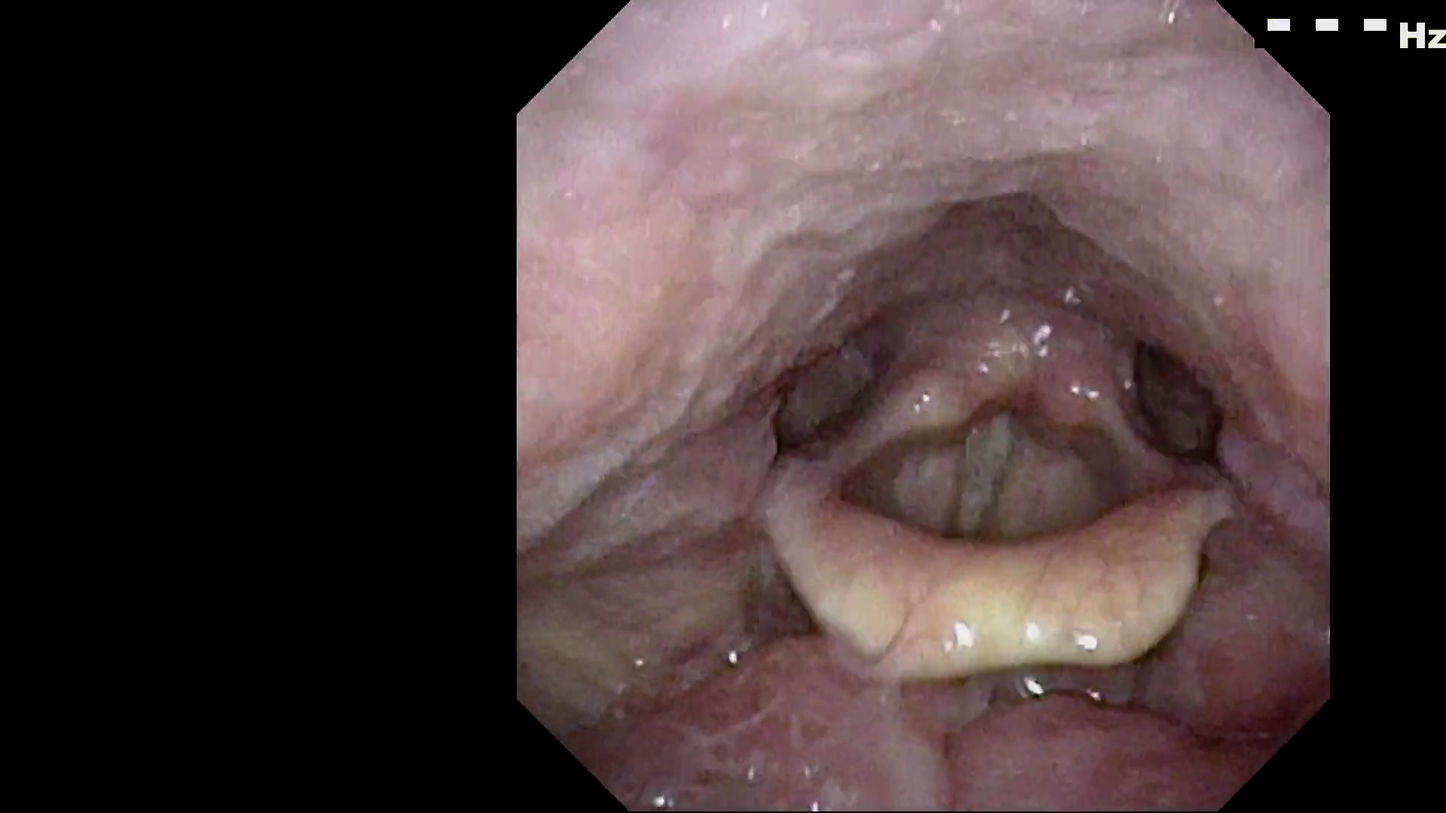epiglottis: (709, 452, 1268, 705)
trachea: (917, 375, 1053, 533)
